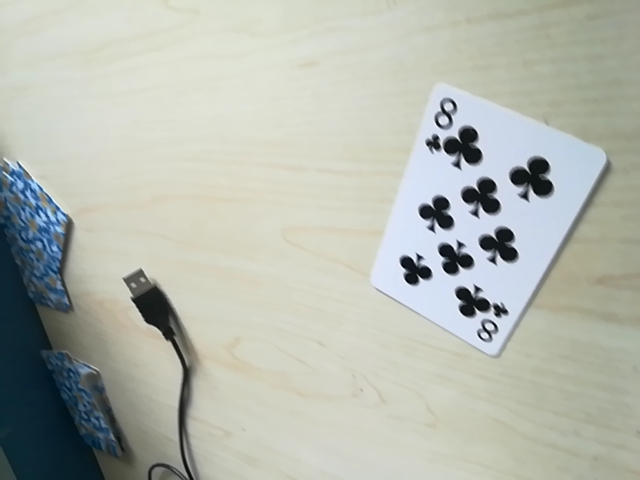mh 8: (420, 89, 467, 156), (460, 299, 513, 349)
